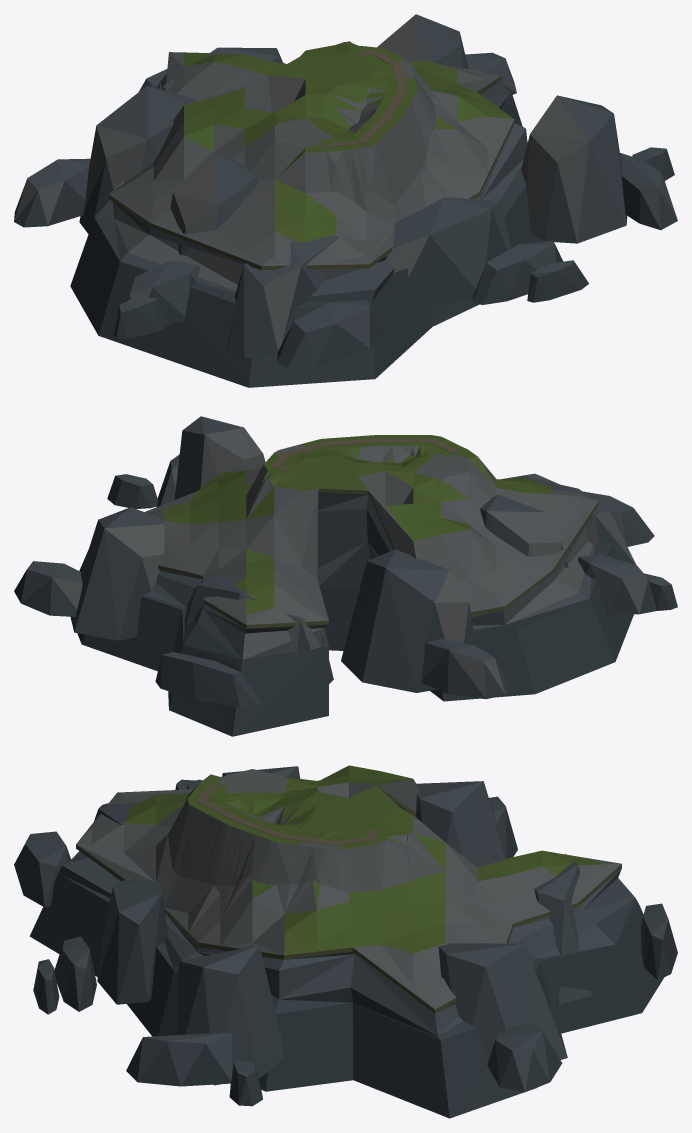
Rendered from island_c.glb.
3 views of the same model, one above another, from view 1: azimuth 30°, elevation 25°; view 2: azimuth 150°, elevation 25°; view 3: azimuth 270°, elevation 25° (orthographic). The views are drawn at different scales.
Visible parts, largest first — view 1: island_c_Coast blue grey bedrock, island_c_Coast short olive grass, island_c_Coast weathered stone footpath; view 2: island_c_Coast blue grey bedrock, island_c_Coast short olive grass, island_c_Coast weathered stone footpath; view 3: island_c_Coast blue grey bedrock, island_c_Coast short olive grass, island_c_Coast weathered stone footpath.
Boxes of the visible parts, x1,y1,x2,y2 form: island_c_Coast blue grey bedrock: [14, 14, 677, 387]; island_c_Coast short olive grass: [109, 41, 514, 270]; island_c_Coast weathered stone footpath: [322, 50, 407, 148]; island_c_Coast blue grey bedrock: [14, 416, 677, 736]; island_c_Coast short olive grass: [145, 435, 598, 628]; island_c_Coast weathered stone footpath: [272, 438, 460, 471]; island_c_Coast blue grey bedrock: [14, 766, 677, 1118]; island_c_Coast short olive grass: [76, 765, 621, 1013]; island_c_Coast weathered stone footpath: [197, 783, 378, 845].
Bounding box in the file's own units: 97.65 × 27.03 × 90.14.
